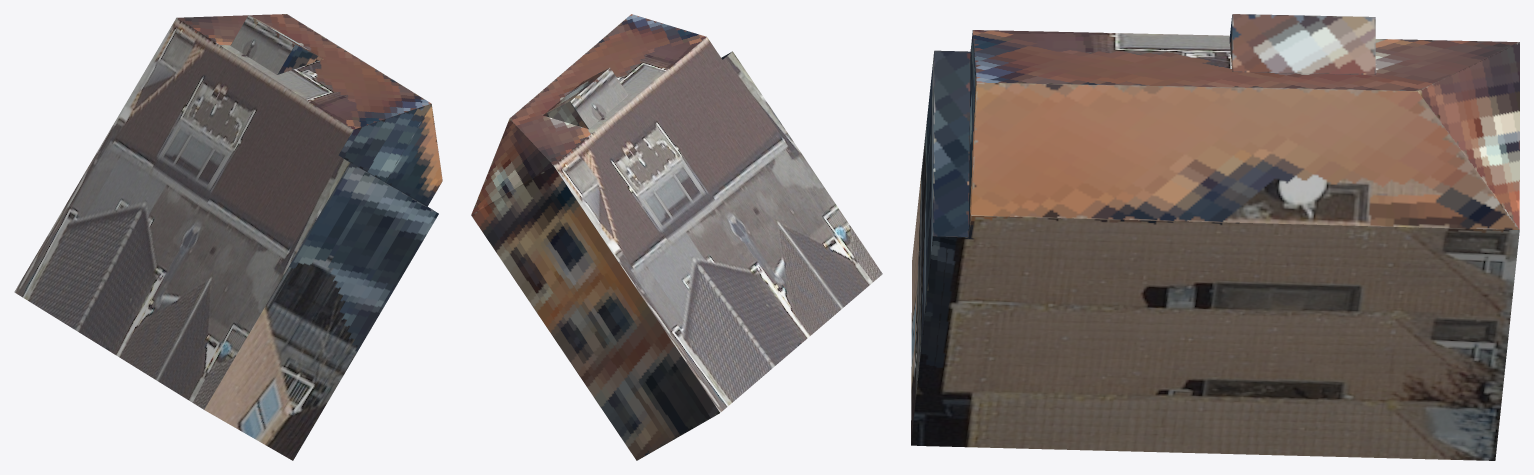
3 renders of one model, left to right at view 1: azimuth 30°, elevation 25°; view 2: azimuth 150°, elevation 25°; view 3: azimuth 270°, elevation 25°, orthographic. The views are drawn at different scales.
Visible parts, largest first — view 1: BAG_0599100000688759 (×4); view 2: BAG_0599100000688759 (×4); view 3: BAG_0599100000688759 (×4).
Boxes of the visible parts, x1,y1,x2,y2 form: BAG_0599100000688759 (×4): [14, 14, 442, 460]; BAG_0599100000688759 (×4): [471, 14, 882, 460]; BAG_0599100000688759 (×4): [911, 14, 1519, 460].
Bounding box in the file's own units: 10.63 × 12.71 × 13.15.
5 materials, 5 textured.
